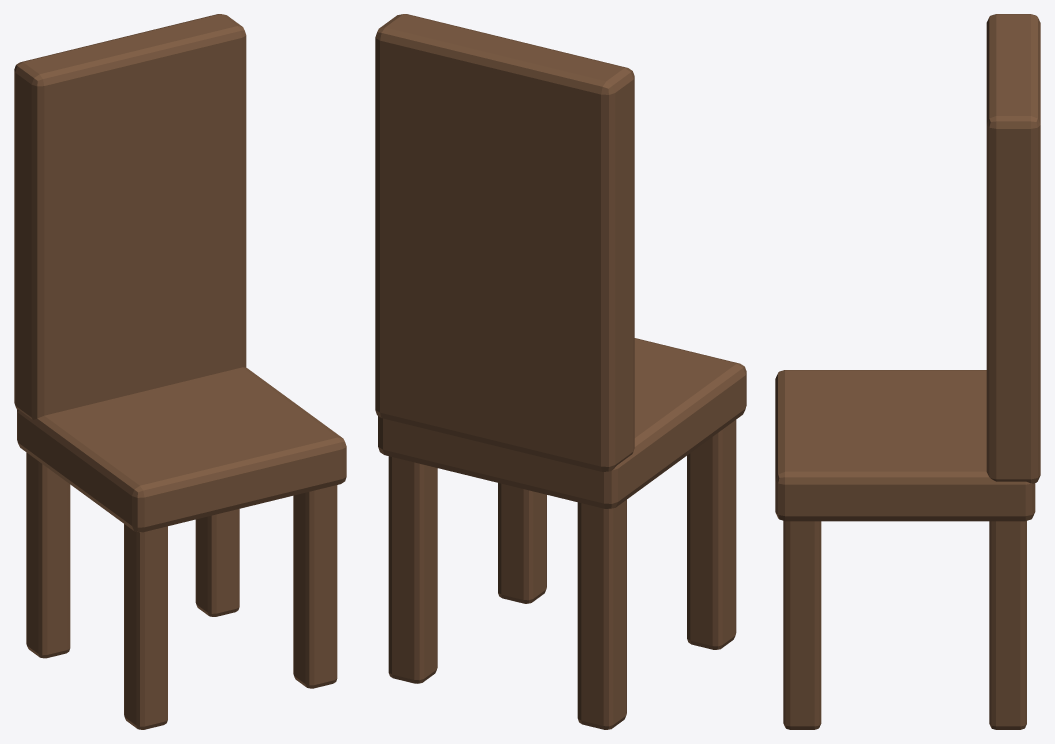
File: OfficeChair_01.fbx
The picture shows the model from 3 angles, left to right: view 1: azimuth 30°, elevation 25°; view 2: azimuth 150°, elevation 25°; view 3: azimuth 270°, elevation 25°; orthographic projection. The views are drawn at different scales.
Parts seen in each view (by area): view 1: Back, Seat, Leg.002, Leg, Leg.001, Leg.003; view 2: Back, Seat, Leg.001, Leg.003, Leg, Leg.002; view 3: Seat, Back, Leg.002, Leg.003.
Boxes of the visible parts, <box> form: Back: <box>14,14,246,419</box>; Seat: <box>17,367,346,532</box>; Leg.002: <box>293,485,337,688</box>; Leg: <box>124,524,167,729</box>; Leg.001: <box>26,452,70,658</box>; Leg.003: <box>195,509,239,616</box>; Back: <box>375,14,634,471</box>; Seat: <box>378,338,746,508</box>; Leg.001: <box>577,500,626,729</box>; Leg.003: <box>388,456,437,683</box>; Leg: <box>687,420,736,649</box>; Leg.002: <box>498,483,546,603</box>; Seat: <box>775,370,1035,521</box>; Back: <box>986,14,1040,483</box>; Leg.002: <box>783,521,821,729</box>; Leg.003: <box>989,521,1026,729</box>.
Bounding box in the file's own units: 0.48 × 1.26 × 0.49.
